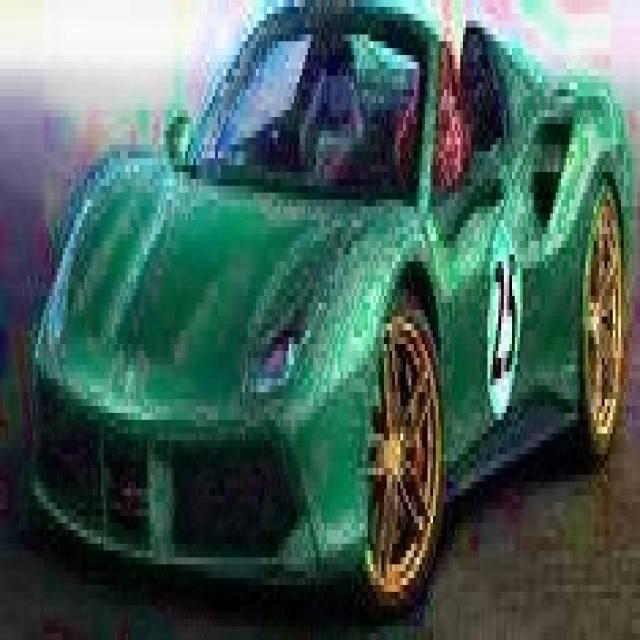green: (27, 4, 640, 602)
